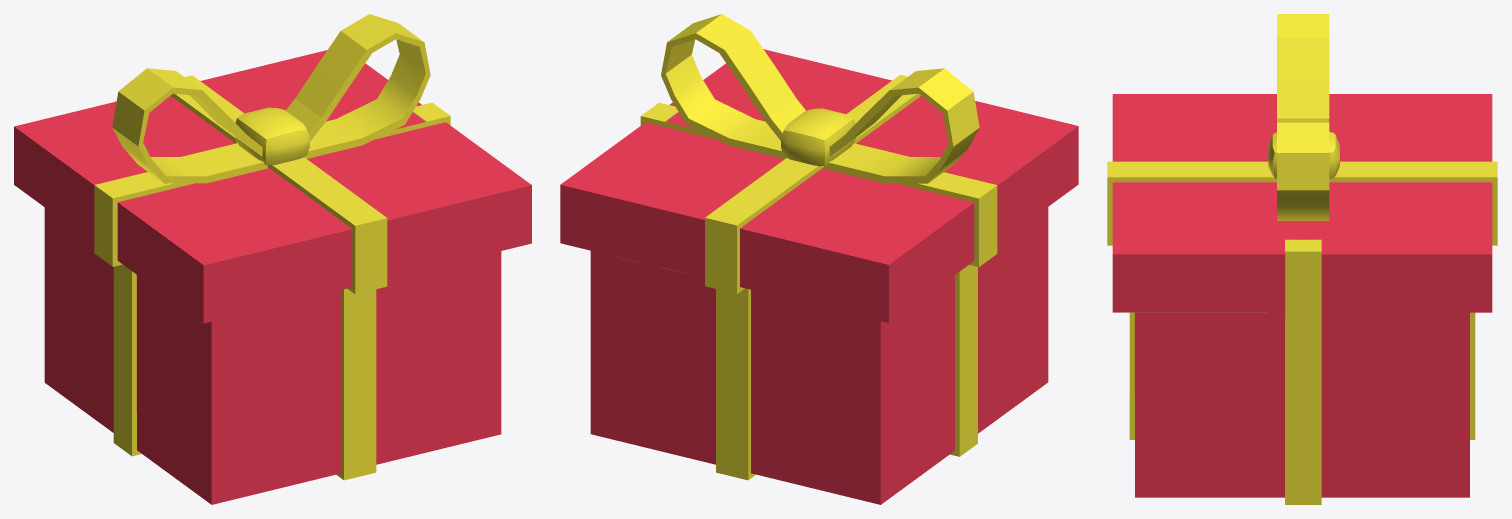
The model's file is presentbox_2.fbx.
3 views of the same model, side by side, from view 1: azimuth 30°, elevation 25°; view 2: azimuth 150°, elevation 25°; view 3: azimuth 270°, elevation 25° (orthographic).
Visible parts, largest first — view 1: Box001; view 2: Box001; view 3: Box001.
Part boxes in pixels (x1=…): Box001: x1=14, y1=14, x2=531, y2=504; Box001: x1=560, y1=14, x2=1078, y2=504; Box001: x1=1107, y1=14, x2=1497, y2=504.
Bounding box in the file's own units: 70 × 71.8 × 70.
